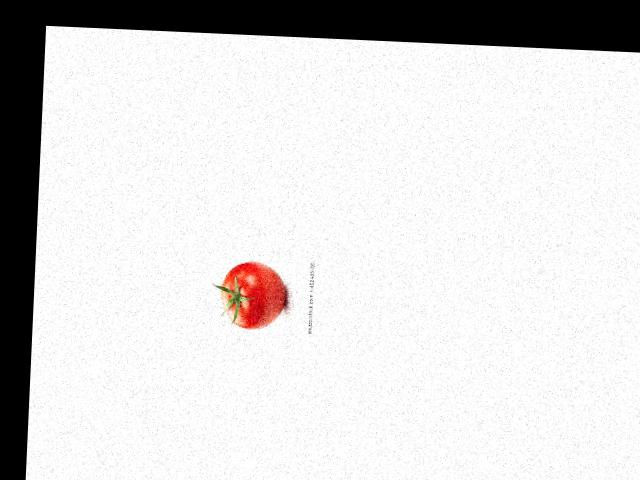tomato: (219, 260, 287, 329)
